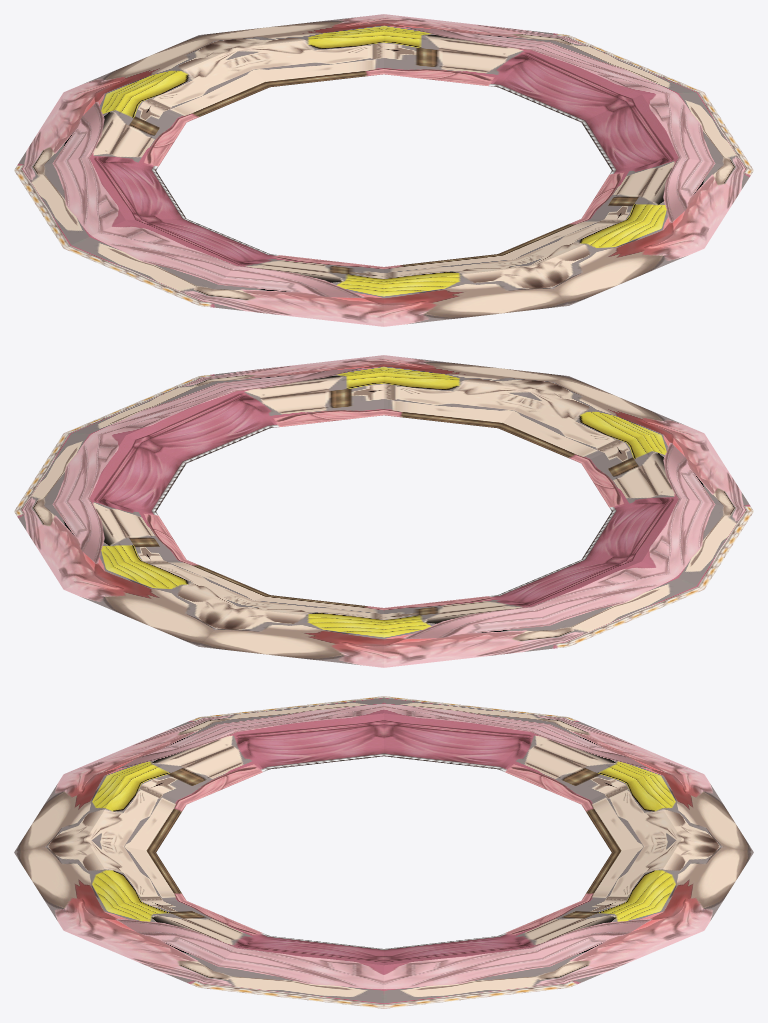
Rendered from Sheep_halo.obj.
3 renders of one model, top to bottom at view 1: azimuth 30°, elevation 25°; view 2: azimuth 150°, elevation 25°; view 3: azimuth 270°, elevation 25°, orthographic.
Visible parts, largest first — view 1: Sheep_halo_tri; view 2: Sheep_halo_tri; view 3: Sheep_halo_tri.
Part boxes in pixels (bbox=[...]): Sheep_halo_tri: bbox=[14, 14, 753, 326]; Sheep_halo_tri: bbox=[14, 355, 753, 667]; Sheep_halo_tri: bbox=[14, 696, 753, 1008].
Bounding box in the file's own units: 0.2129 × 0.00836 × 0.2129.
1 material, 1 textured.
